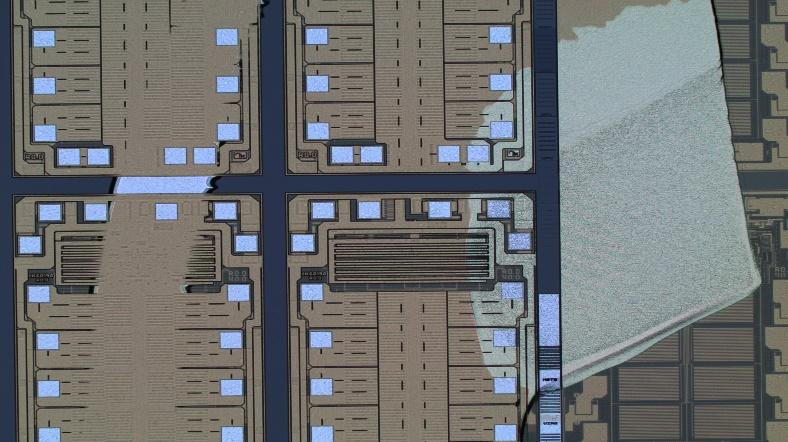BLOCK ETCH: (79, 1, 762, 442)
